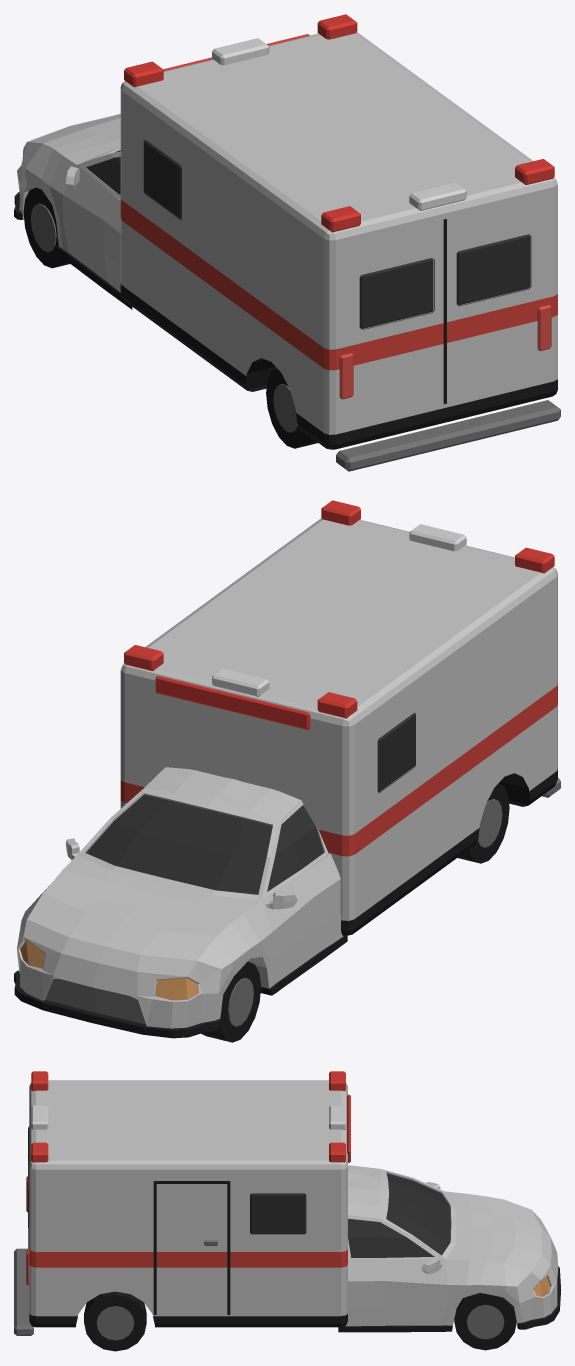
Rendered from ambulance.glb.
The picture shows the model from 3 angles, top to bottom: view 1: azimuth 30°, elevation 25°; view 2: azimuth 150°, elevation 25°; view 3: azimuth 270°, elevation 25°; orthographic projection. The views are drawn at different scales.
Visible parts, largest first — view 1: Body, Wheel_FL, Wheel_RL; view 2: Body, Wheel_FL, Wheel_RL; view 3: Body, Wheel_RR, Wheel_FR.
Part boxes in pixels (box(x1,y1,x2,y2)): Body: box(14, 14, 560, 471); Wheel_FL: box(23, 187, 69, 268); Wheel_RL: box(266, 368, 317, 448); Body: box(14, 500, 560, 1038); Wheel_FL: box(201, 961, 261, 1042); Wheel_RL: box(457, 783, 509, 863); Body: box(14, 1071, 560, 1335); Wheel_RR: box(84, 1291, 146, 1351); Wheel_FR: box(454, 1293, 516, 1350).
Size of the model in its own units: 2.28 by 2.45 by 6.
